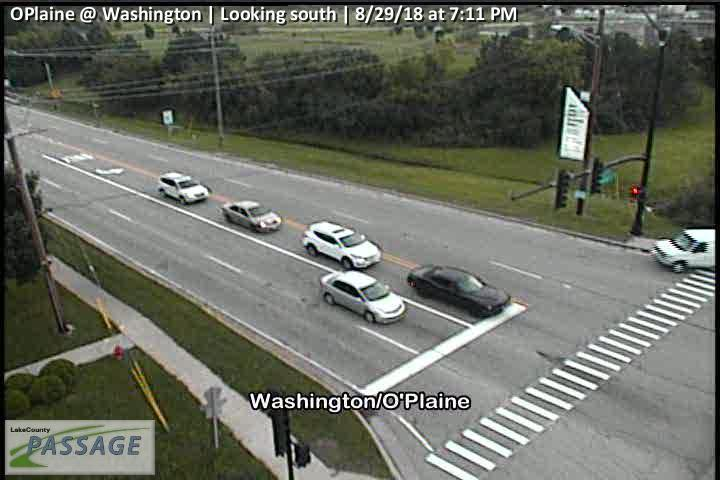SUV: (301, 220, 382, 271), (649, 229, 714, 274), (157, 172, 209, 205)
Sedan: (406, 262, 511, 319), (318, 270, 405, 325), (221, 199, 284, 234)
